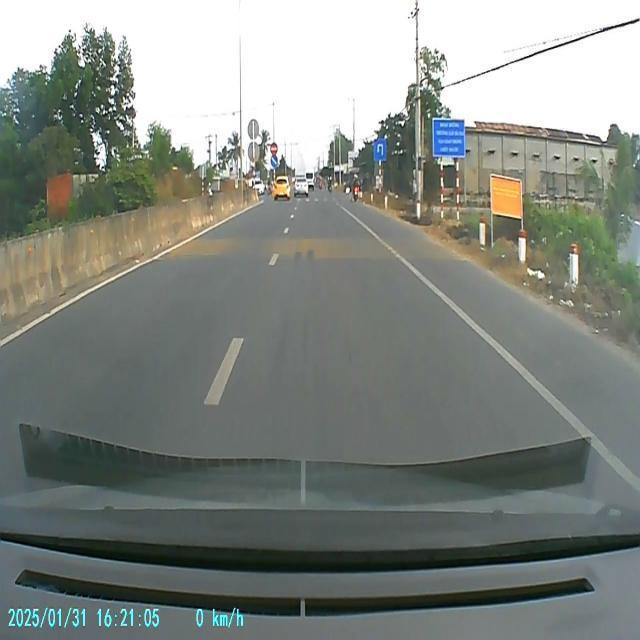102-cam-di-nguoc-chieu: (270, 141, 278, 155)
302a-huong-phai-di-vong-chuong-ngai-vat-1: (270, 155, 278, 168)
